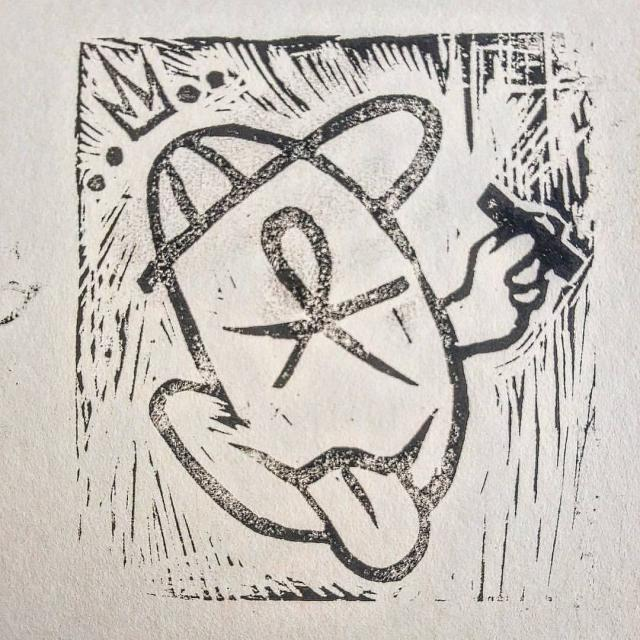-: (79, 44, 594, 606), (80, 44, 592, 606)
